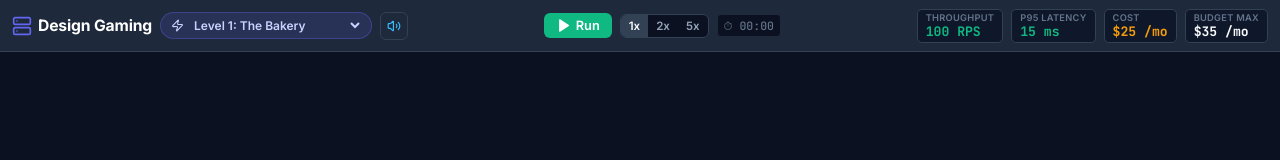
S-021 Web Audio Synth & Mute Control Unit Tests › TopBar Audio Toggle Component Tests › renders audio toggle button and flips icon on click
Click to mute
Click the button named "Tắt âm thanh".
click(394, 26)  # box [380,12,408,40]
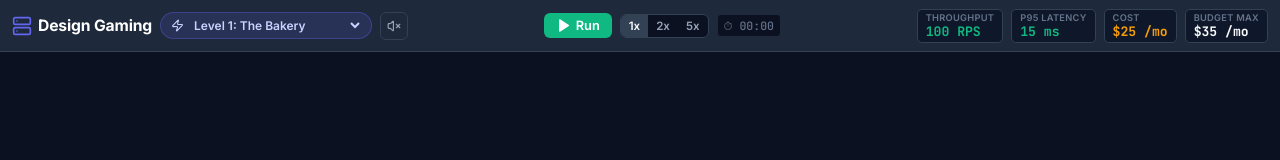
Expected: the button named "Bật âm thanh" is shown, [380,12,408,40]
